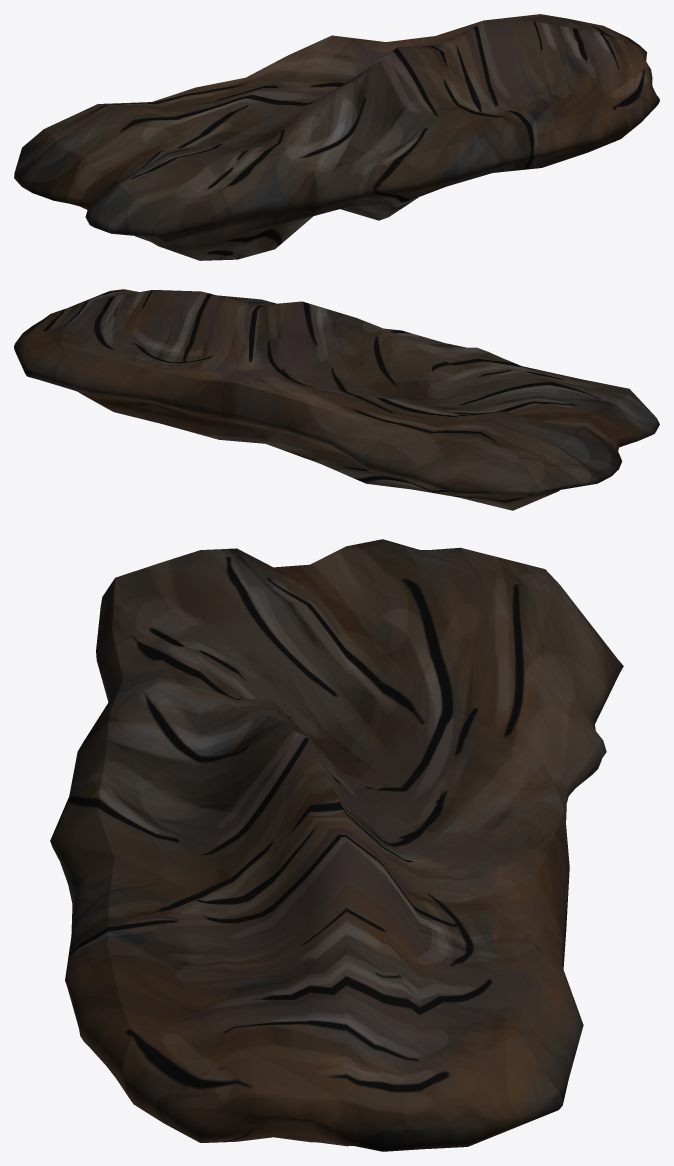
File: Rubble.FBX
The picture shows the model from 3 angles, top to bottom: view 1: azimuth 30°, elevation 25°; view 2: azimuth 150°, elevation 25°; view 3: azimuth 270°, elevation 25°; orthographic projection. The views are drawn at different scales.
Parts seen in each view (by area): view 1: PRO_Rubble; view 2: PRO_Rubble; view 3: PRO_Rubble.
Boxes of the visible parts, x1,y1,x2,y2 form: PRO_Rubble: (14, 14, 659, 260); PRO_Rubble: (14, 289, 659, 510); PRO_Rubble: (50, 539, 623, 1151).
Bounding box in the file's own units: 70.58 × 16.93 × 29.59.
Materials: 1 (1 with a texture image).
